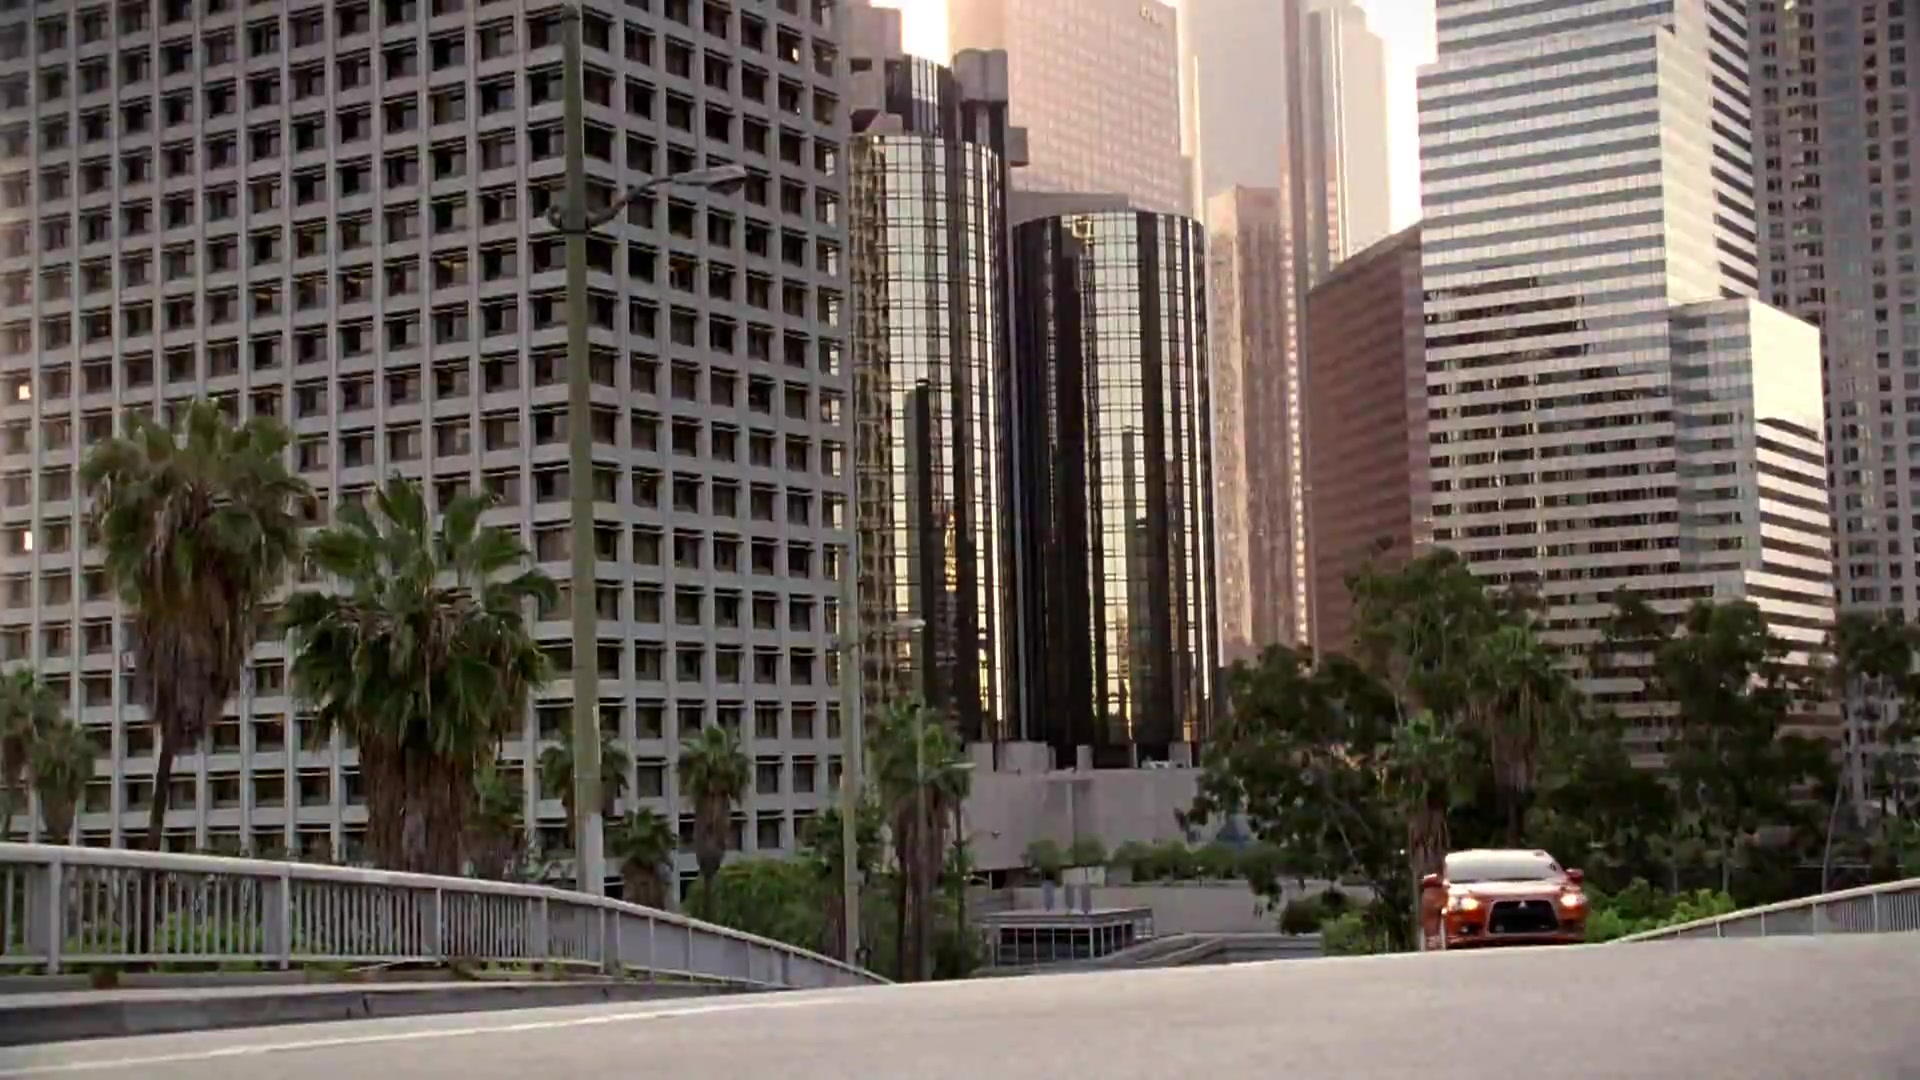car: (1415, 844, 1592, 953)
